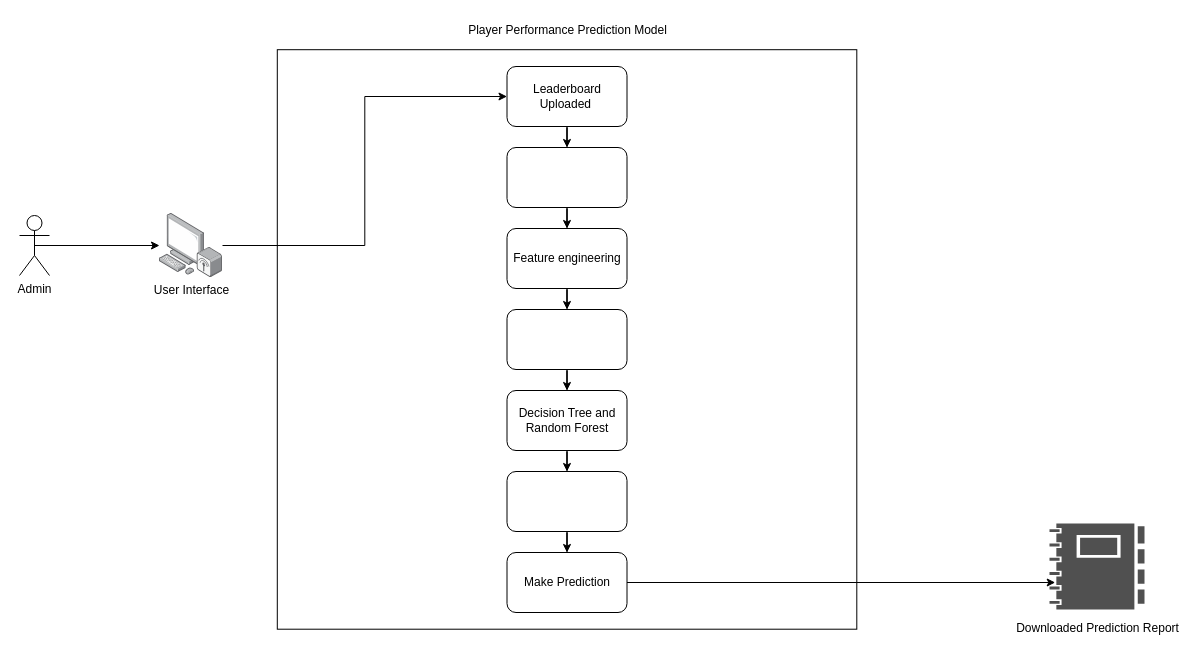
Some shapes in this 1204 by 658 pixel diagram are drawn without their labels. Here are the shapes that lost their labels. From the top down, the centre of each, then its label:
the point at 566,177: Data cleaning and preprocessing
the point at 566,339: Data splitting
the point at 566,501: Train Dataset
